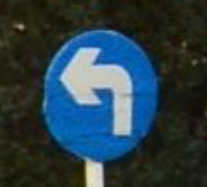left_turn: (40, 30, 156, 162)
